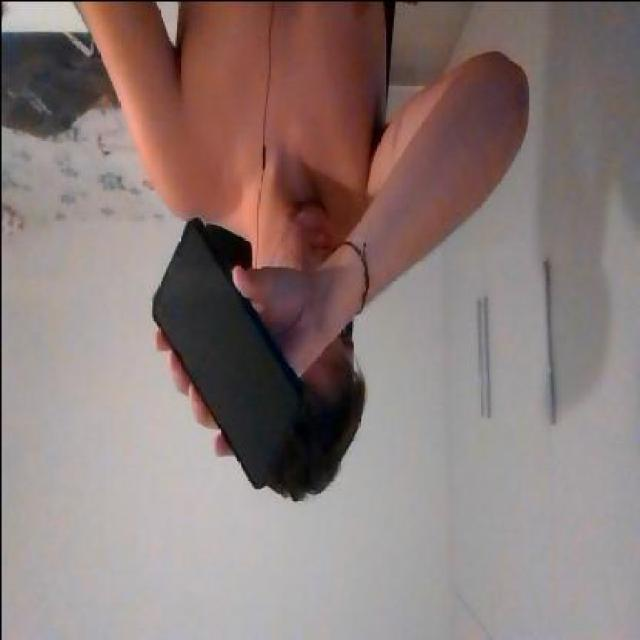phone: (153, 216, 302, 490)
